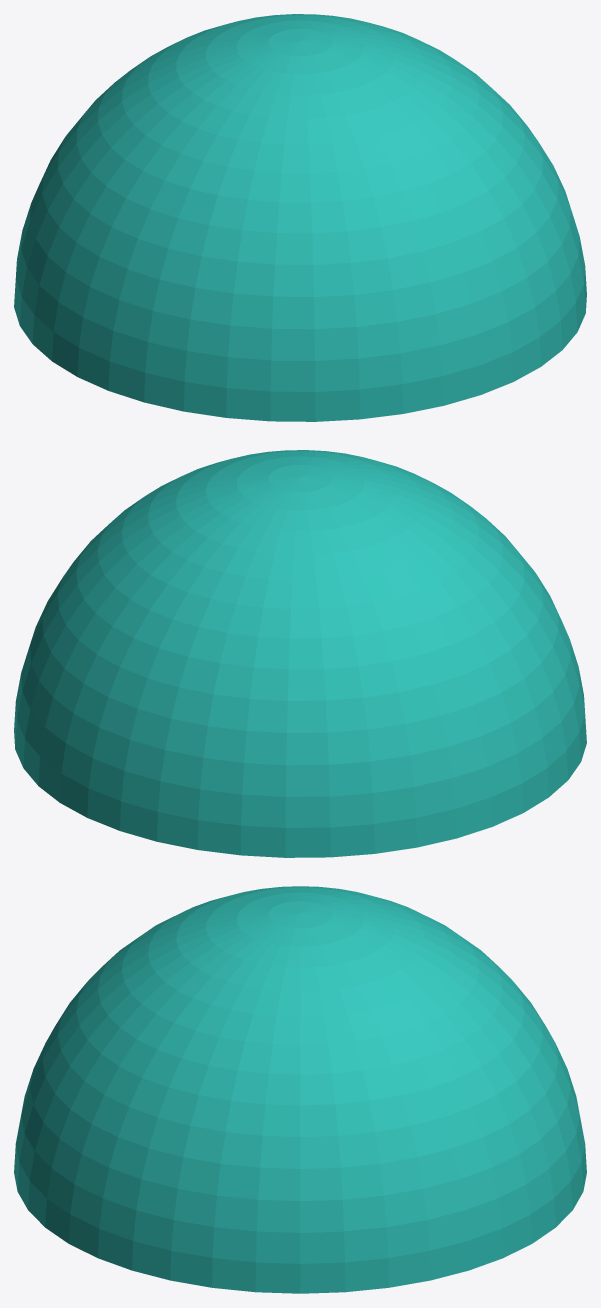
File: hemisphere-quality.glb
3 renders of one model, top to bottom at view 1: azimuth 30°, elevation 25°; view 2: azimuth 150°, elevation 25°; view 3: azimuth 270°, elevation 25°, orthographic.
Parts seen in each view (by area): view 1: Hemisphere; view 2: Hemisphere; view 3: Hemisphere.
Part boxes in pixels (bbox=[...]): Hemisphere: bbox=[14, 14, 586, 421]; Hemisphere: bbox=[14, 450, 586, 857]; Hemisphere: bbox=[14, 886, 586, 1293].
Size of the model in its own units: 1.8 by 0.9 by 1.8.
